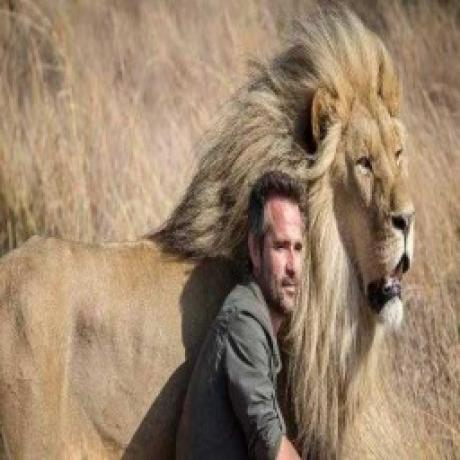Lion: (0, 9, 420, 460)
